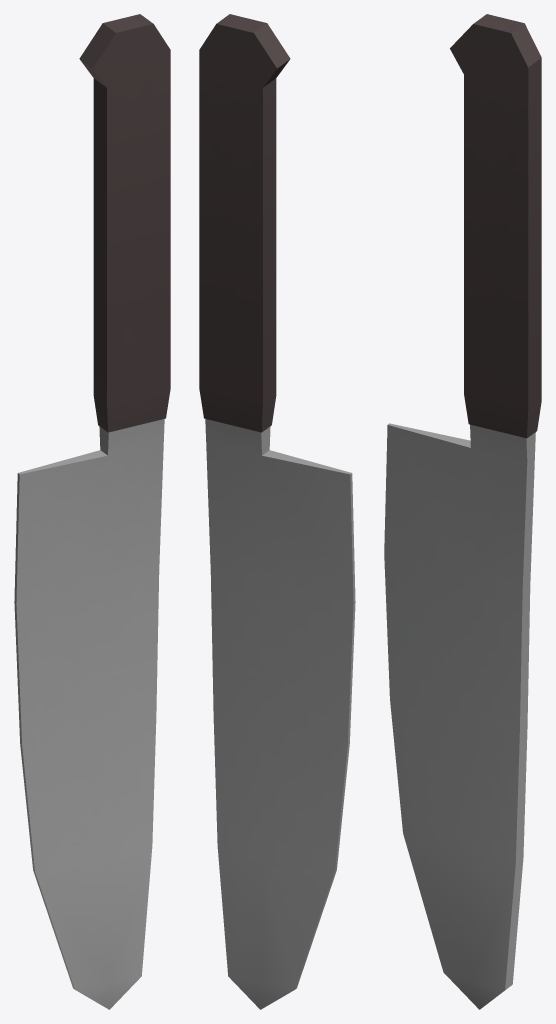
File: Knife_B.fbx
3 renders of one model, left to right at view 1: azimuth 30°, elevation 25°; view 2: azimuth 150°, elevation 25°; view 3: azimuth 330°, elevation 25°, orthographic.
Parts seen in each view (by area): view 1: Kit_1_Knife_B; view 2: Kit_1_Knife_B; view 3: Kit_1_Knife_B.
Part boxes in pixels (bbox=[...]): Kit_1_Knife_B: bbox=[14, 14, 170, 1009]; Kit_1_Knife_B: bbox=[199, 14, 355, 1009]; Kit_1_Knife_B: bbox=[384, 14, 541, 1009].
Bounding box in the file's own units: 3.71 × 23.44 × 0.5814.
